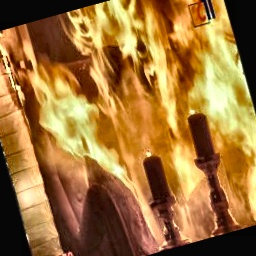fire: (13, 0, 256, 243)
